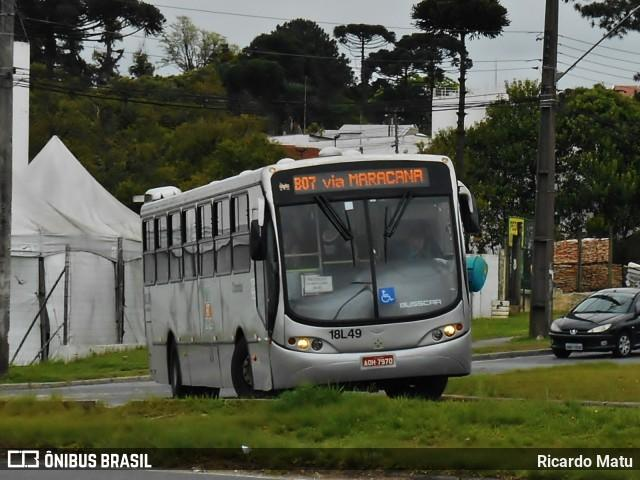MARACANA: (347, 165, 425, 188)
